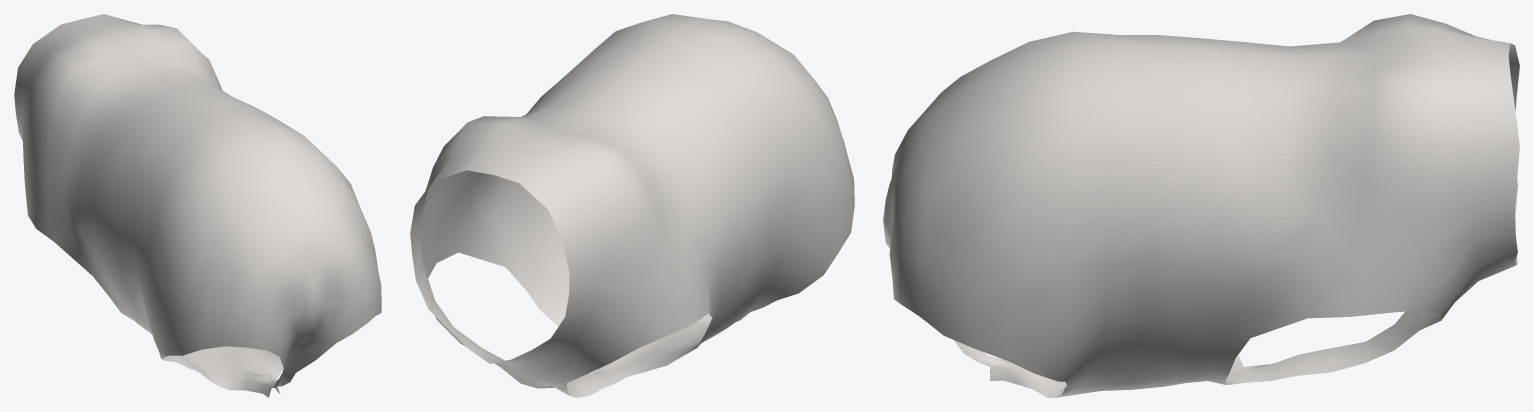
The model's file is r_body.obj.
The picture shows the model from 3 angles, left to right: view 1: azimuth 30°, elevation 25°; view 2: azimuth 150°, elevation 25°; view 3: azimuth 270°, elevation 25°; orthographic projection. The views are drawn at different scales.
Parts seen in each view (by area): view 1: Polar_Bear; view 2: Polar_Bear; view 3: Polar_Bear.
Part boxes in pixels (box(x1,y1,x2,y2)): Polar_Bear: box(14, 14, 381, 397); Polar_Bear: box(410, 14, 854, 397); Polar_Bear: box(883, 14, 1519, 397).
Size of the model in its own units: 2.84 by 3.22 by 5.5.
Materials: 1 (1 with a texture image).
